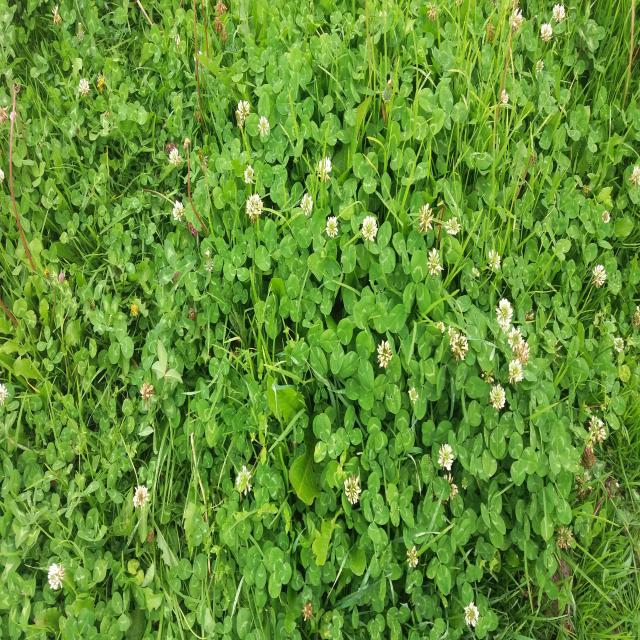Four Leaf Clover: (386, 483, 415, 529)
